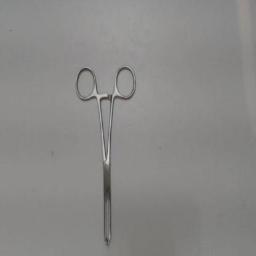Allis Tissue Forceps: (71, 63, 141, 253)
